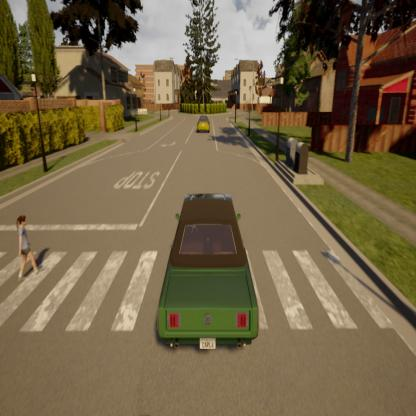Cars: (158, 193, 258, 352), (196, 112, 211, 134)
Pedestrian: (14, 208, 40, 290)
